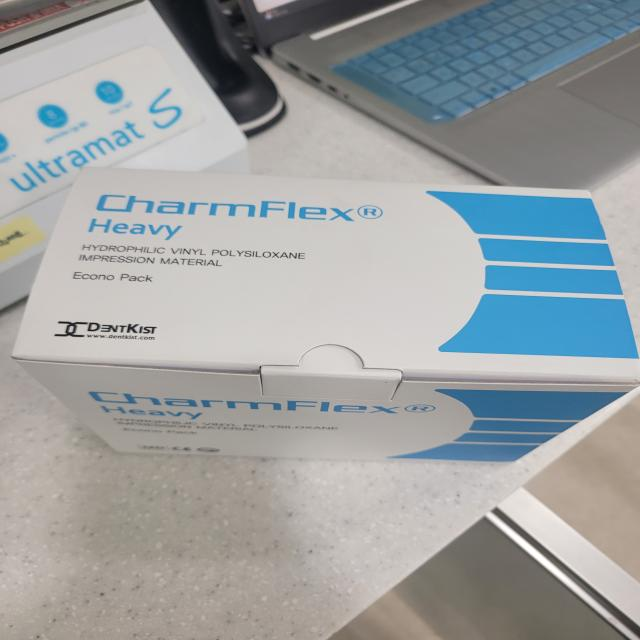impression: (12, 155, 640, 488)
